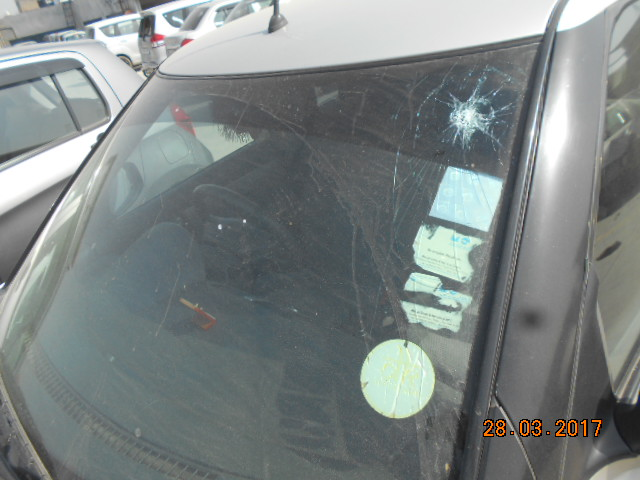Shatter: (396, 73, 507, 194)
